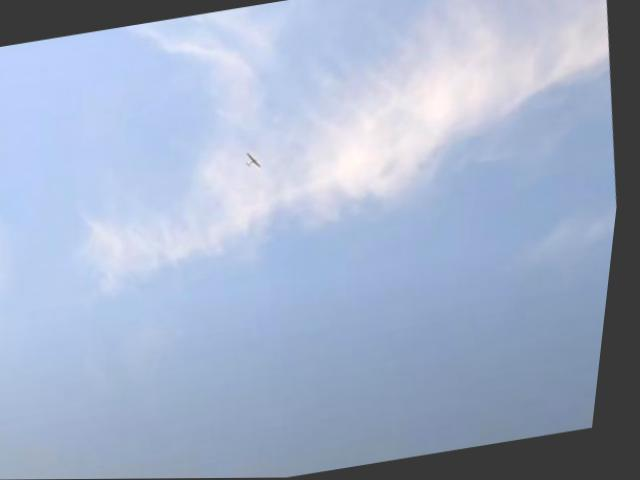iha: (247, 151, 269, 171)
